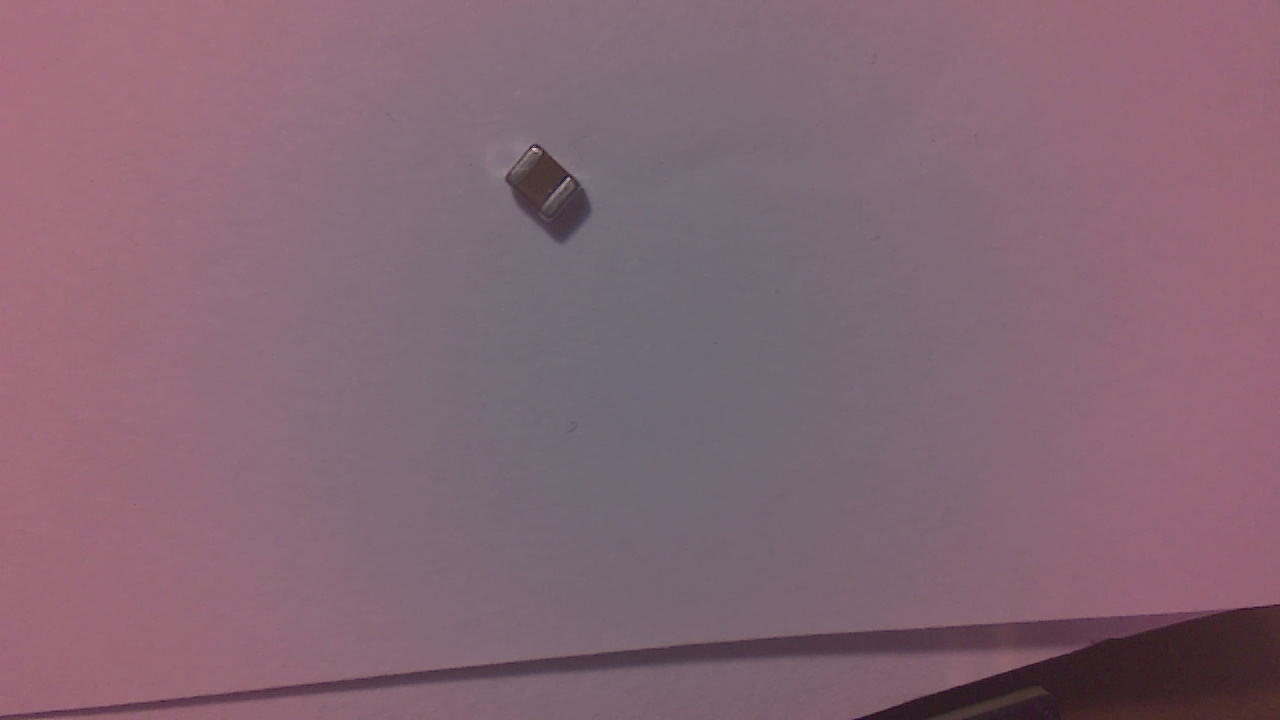Condensator: (510, 147, 589, 225)
